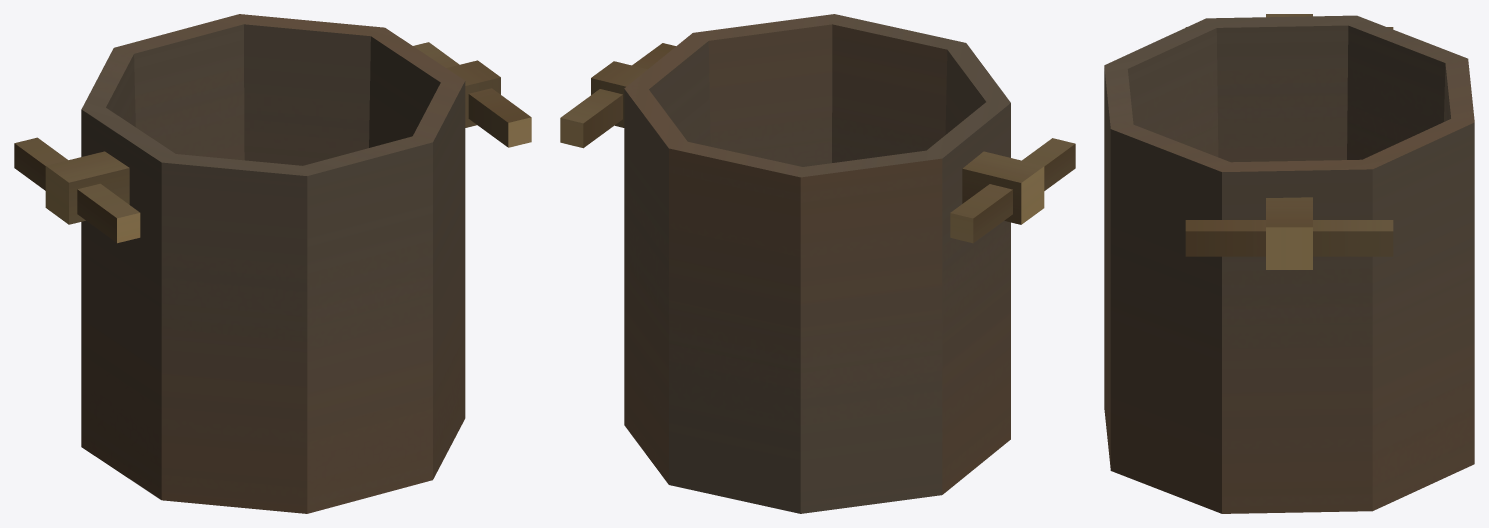
Rendered from Bucket_1A_LOD1.fbx.
The picture shows the model from 3 angles, left to right: view 1: azimuth 30°, elevation 25°; view 2: azimuth 150°, elevation 25°; view 3: azimuth 270°, elevation 25°; orthographic projection.
Visible parts, largest first — view 1: polySurface9706; view 2: polySurface9706; view 3: polySurface9706.
Part boxes in pixels (bbox=[...]): polySurface9706: bbox=[14, 14, 531, 513]; polySurface9706: bbox=[560, 14, 1075, 513]; polySurface9706: bbox=[1104, 14, 1474, 513].
Bounding box in the file's own units: 134 × 100 × 98.67.
